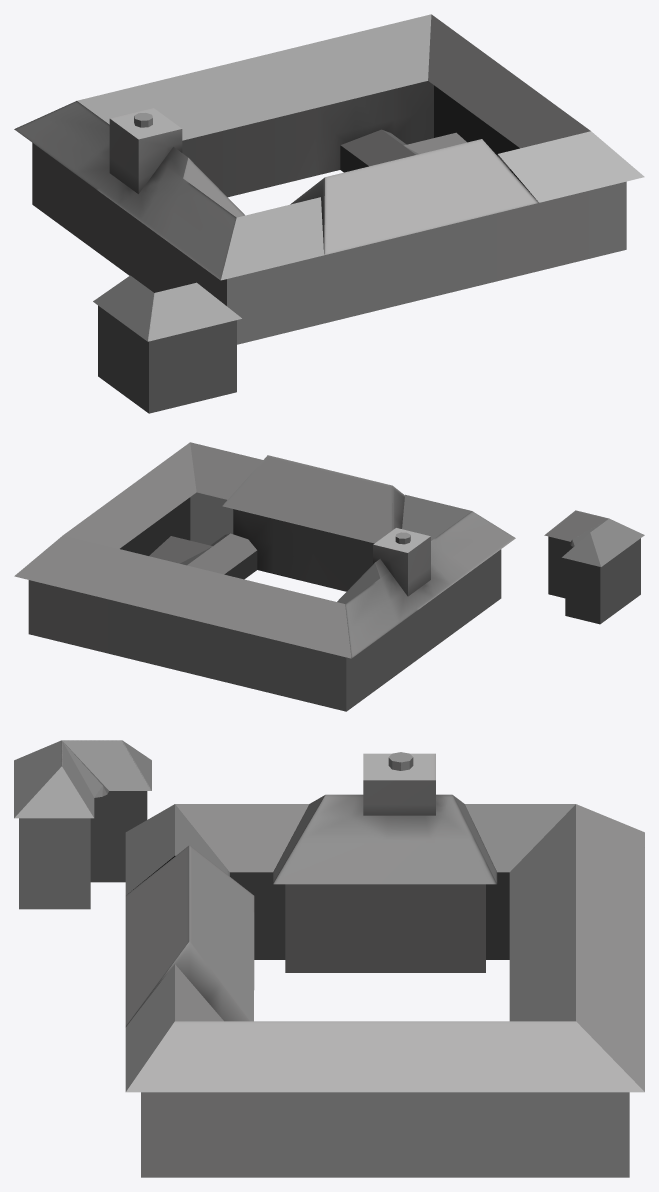
Rendered from build2.dae.
3 renders of one model, top to bottom at view 1: azimuth 30°, elevation 25°; view 2: azimuth 150°, elevation 25°; view 3: azimuth 270°, elevation 25°, orthographic. The views are drawn at different scales.
Parts seen in each view (by area): view 1: House; view 2: House; view 3: House.
Part boxes in pixels (x1=…): House: x1=14, y1=14, x2=644, y2=413; House: x1=14, y1=442, x2=644, y2=711; House: x1=14, y1=740, x2=644, y2=1177.
Size of the model in its own units: 45.22 by 36.33 by 11.94.
4 materials, 4 textured.
